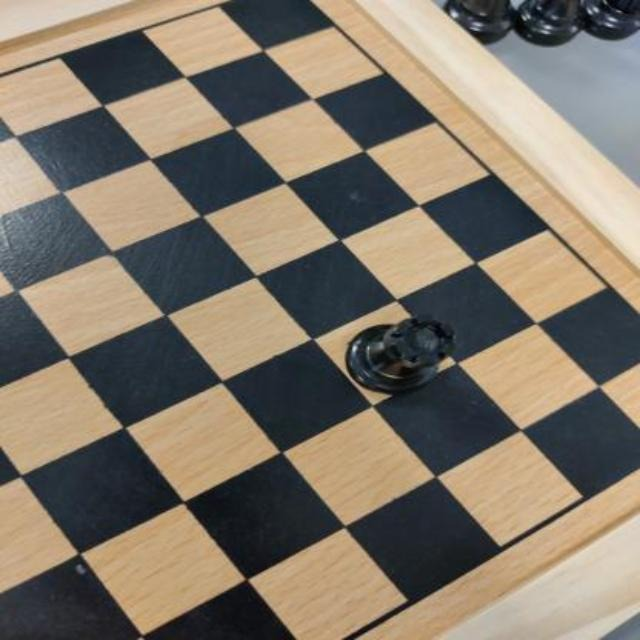black-rook: (342, 315, 463, 395)
